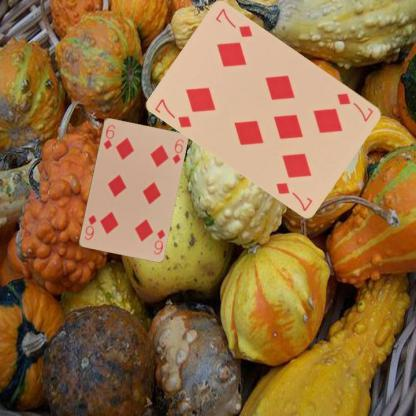6d: (151, 226, 166, 256), (101, 122, 116, 151)
7d: (152, 96, 194, 130), (335, 90, 375, 123)
